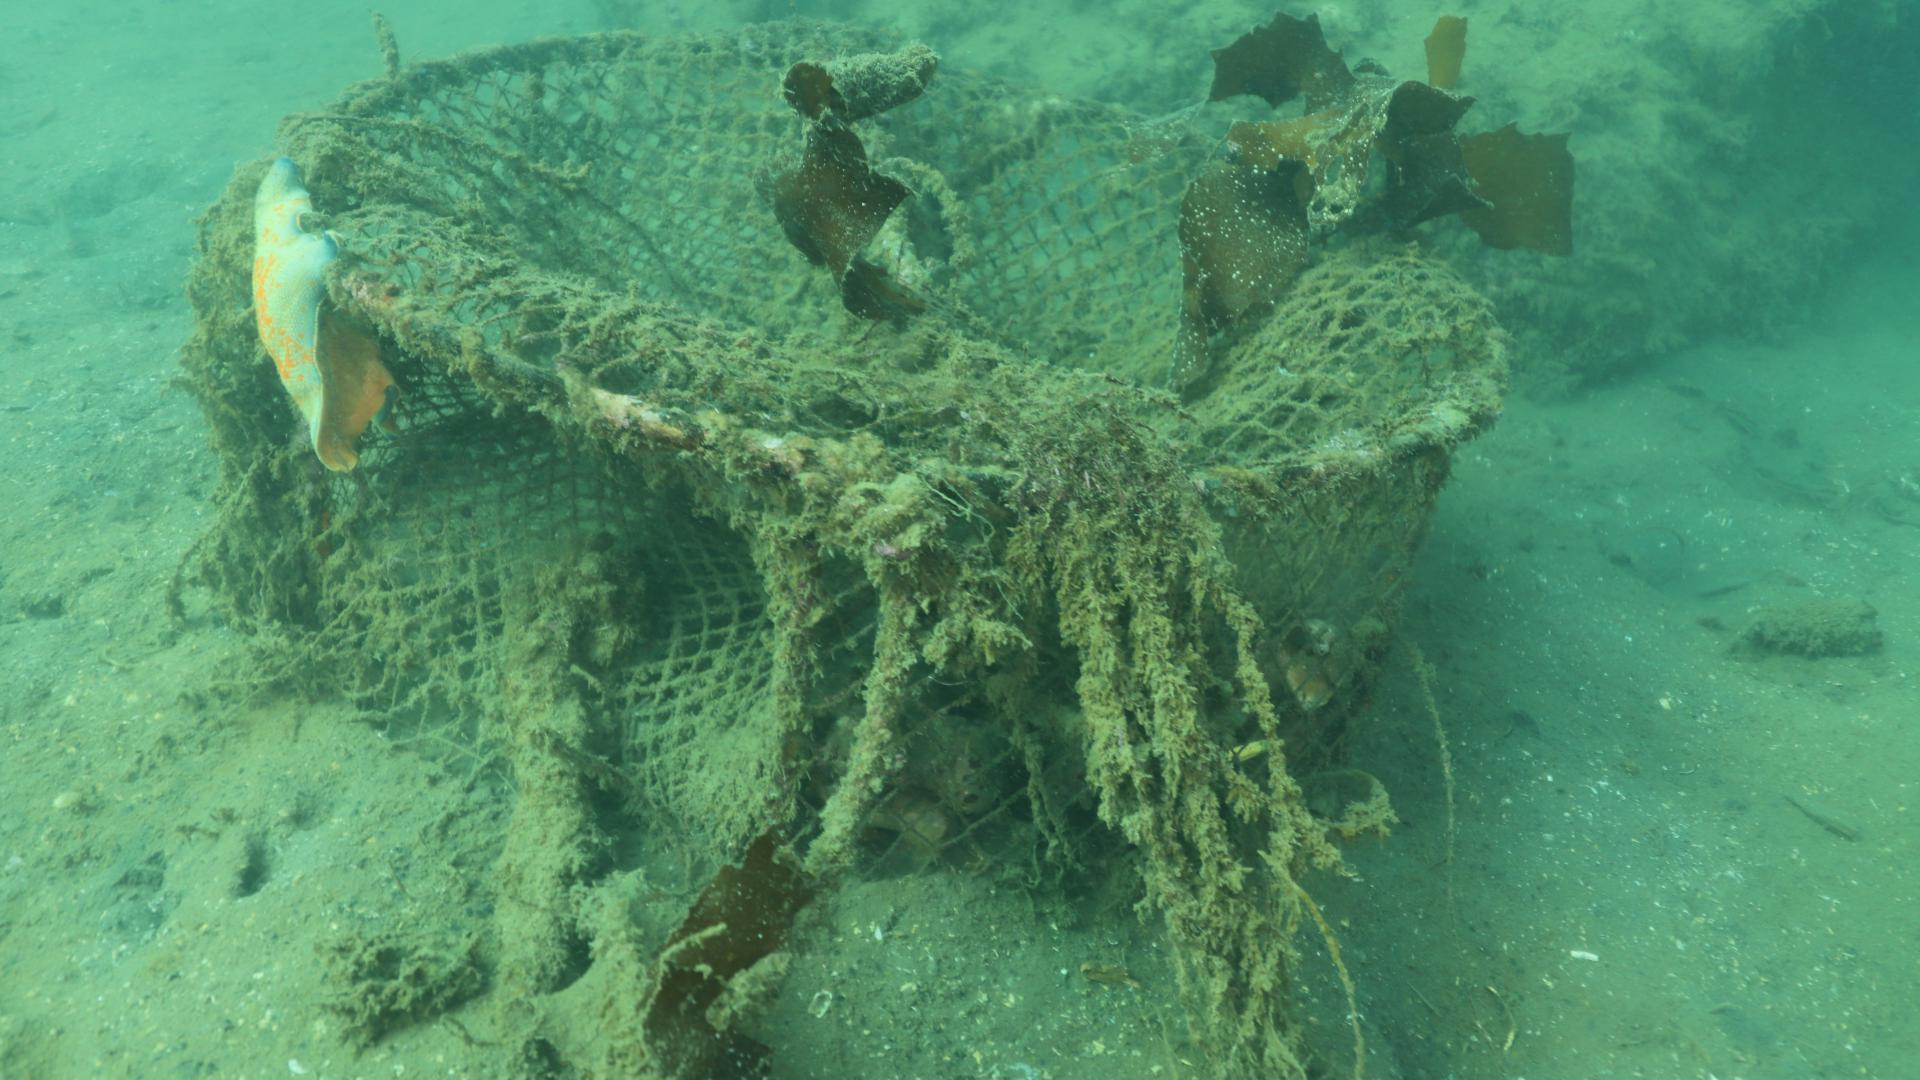circular fish trap: (295, 15, 1519, 898)
